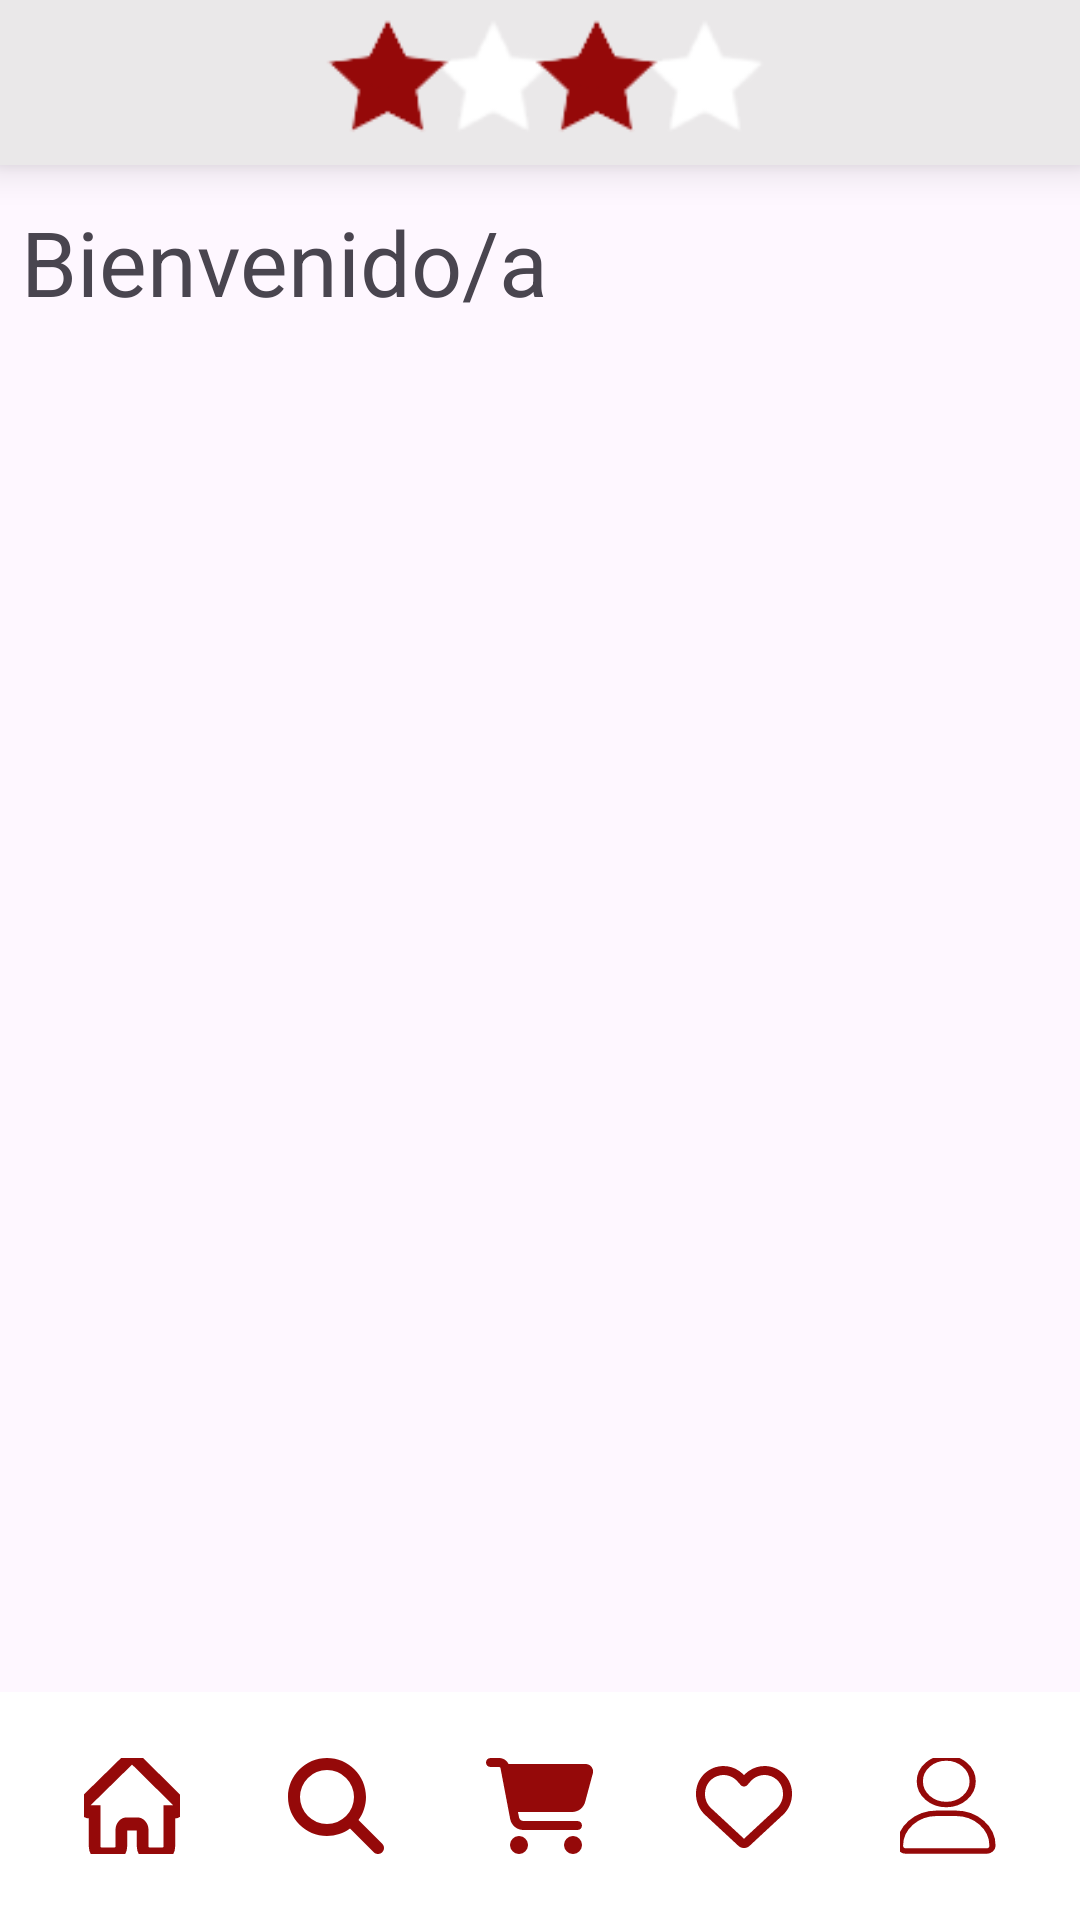

Icons on this 1080 x 1920 Android screen, each with its box as (x1=x1, y1=y1, x2=x2, y2=y2):
cart: (x1=486, y1=1758, x2=593, y2=1854)
heart: (x1=696, y1=1766, x2=792, y2=1848)
house: (x1=84, y1=1758, x2=180, y2=1854)
search button: (x1=288, y1=1758, x2=384, y2=1854)
user: (x1=900, y1=1758, x2=996, y2=1854)
